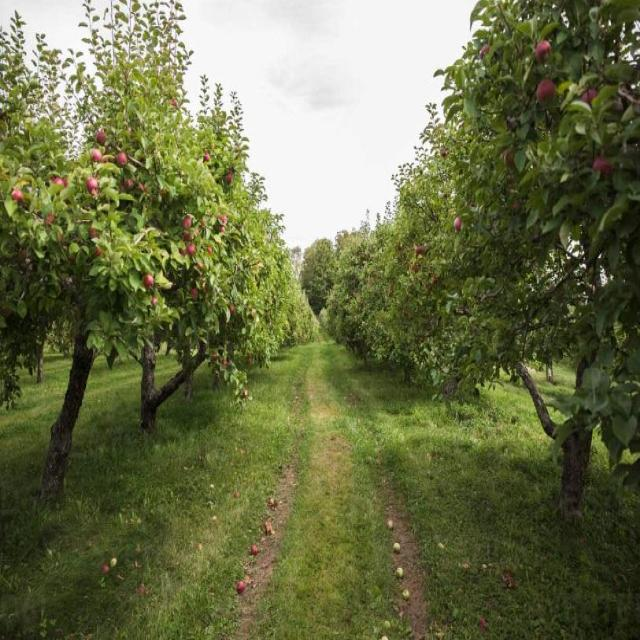row: (18, 339, 609, 639)
